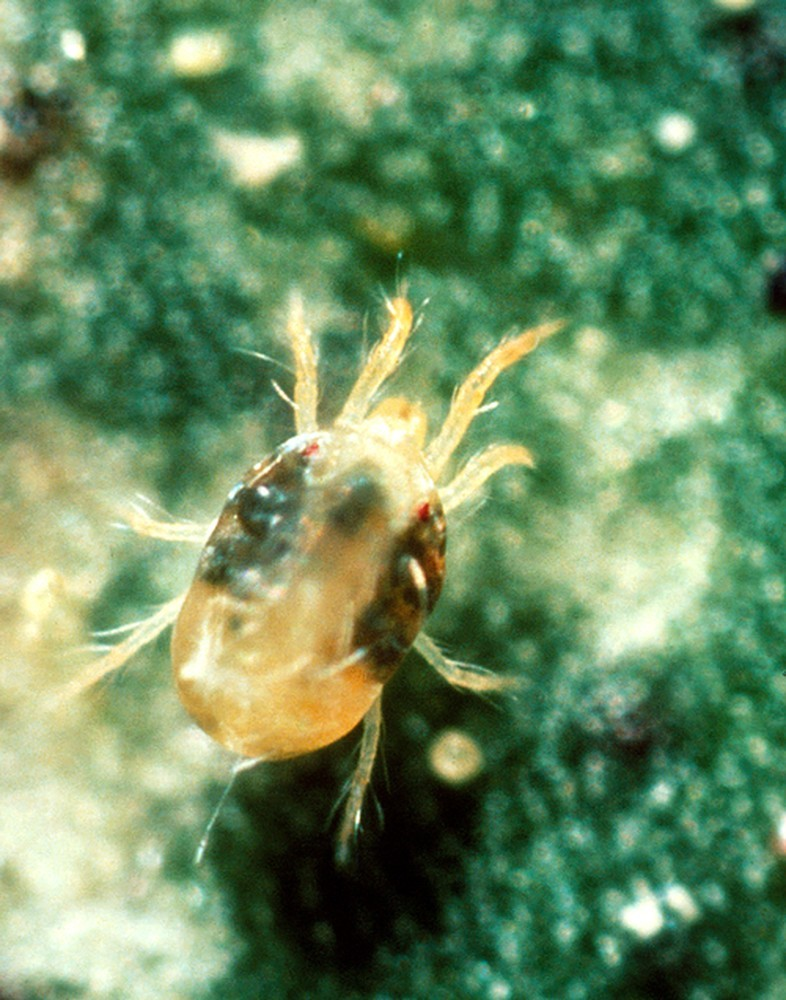Aracnido Rojo: (77, 280, 564, 854)
